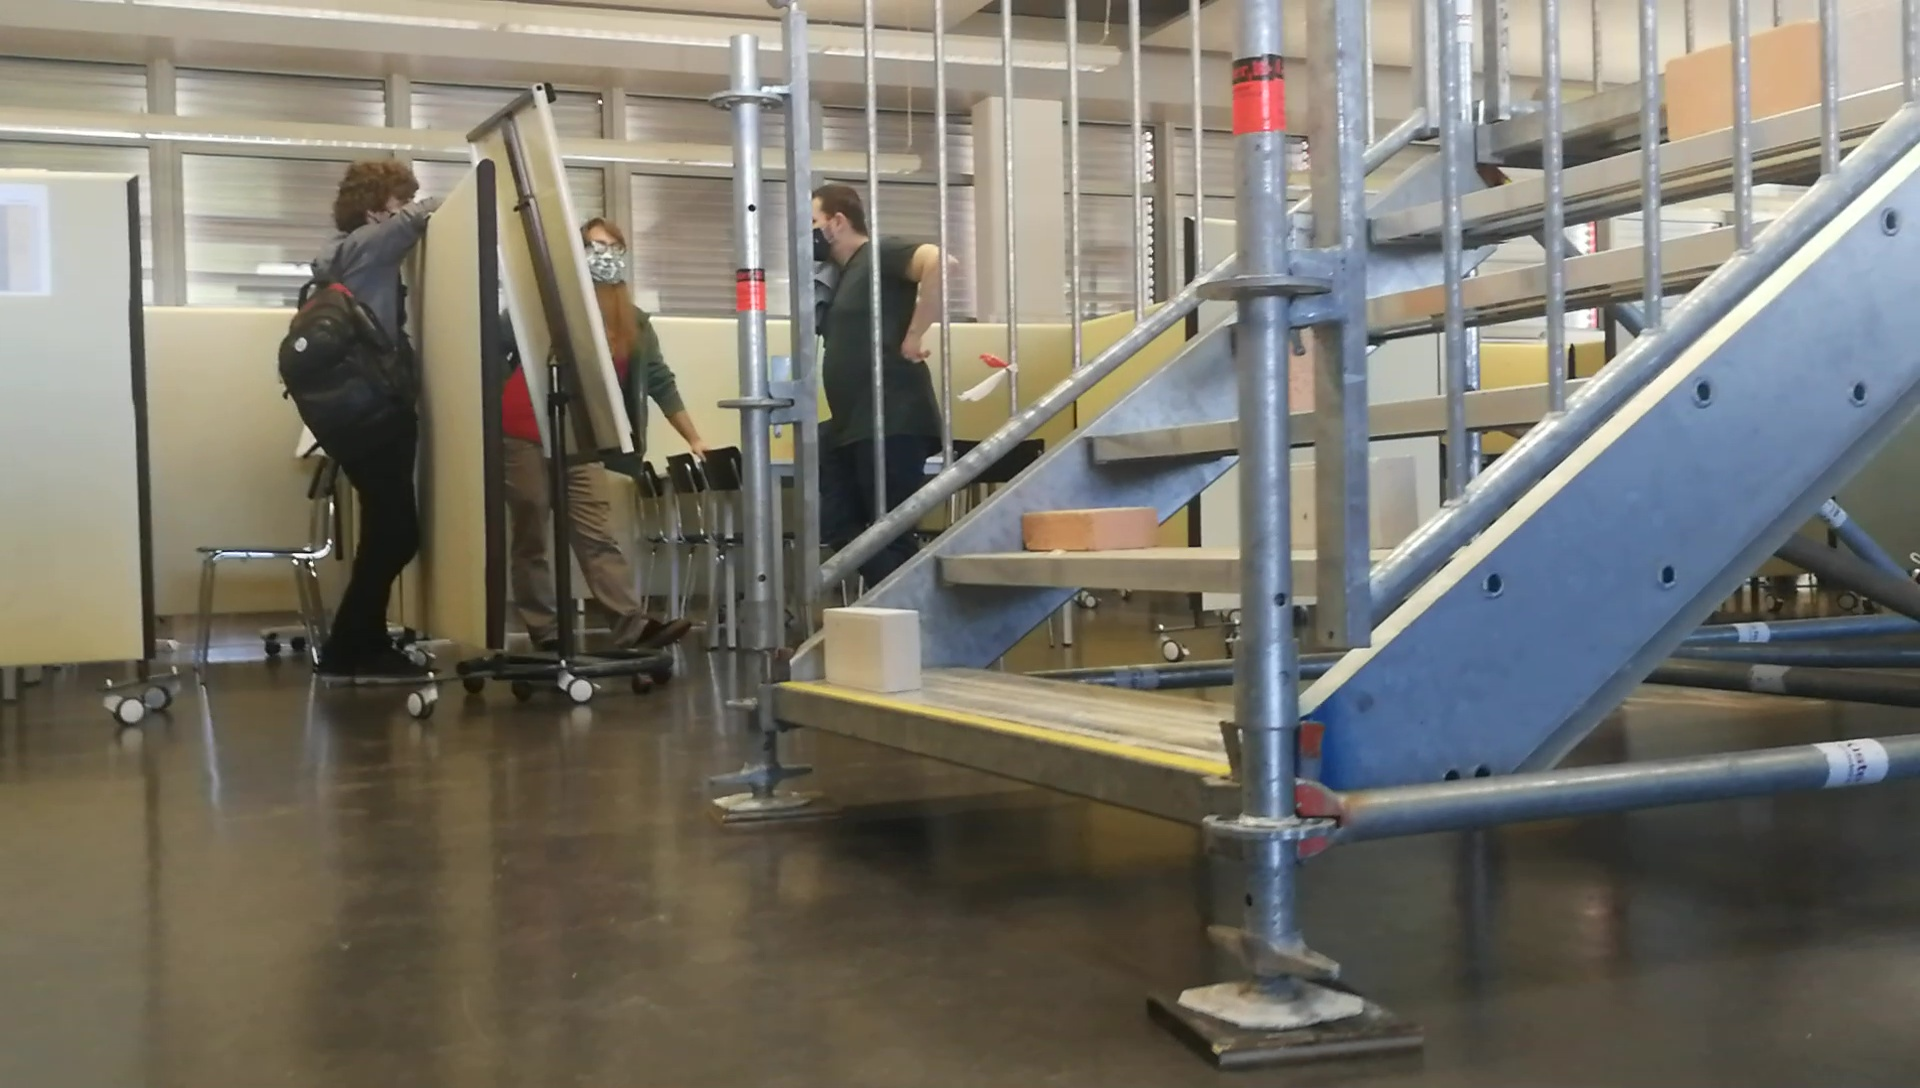brick: (822, 607, 920, 692), (1021, 506, 1155, 553)
edge: (771, 684, 1195, 826)
stairs: (713, 3, 1288, 1062)
